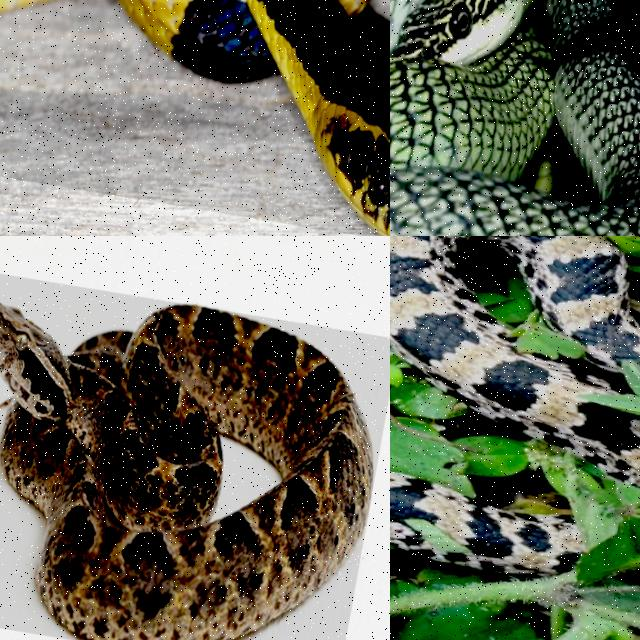Bungarus fasciatus: (122, 0, 389, 235)
Calloselasma rhodostoma: (0, 304, 373, 639)
Chrysopelea ornata: (390, 0, 639, 235)
Ovophis monticola: (390, 236, 639, 486)
snake: (0, 304, 373, 639), (122, 0, 389, 235), (390, 236, 639, 486), (390, 0, 639, 235)
